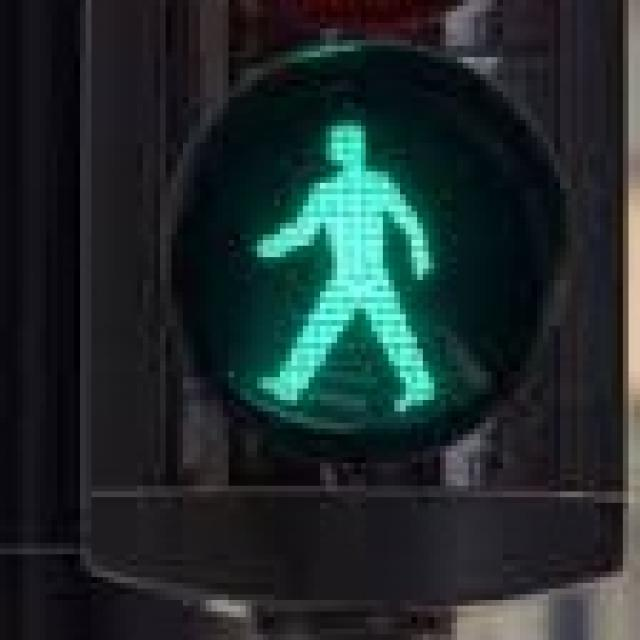geen-crossing: (223, 92, 468, 417)
